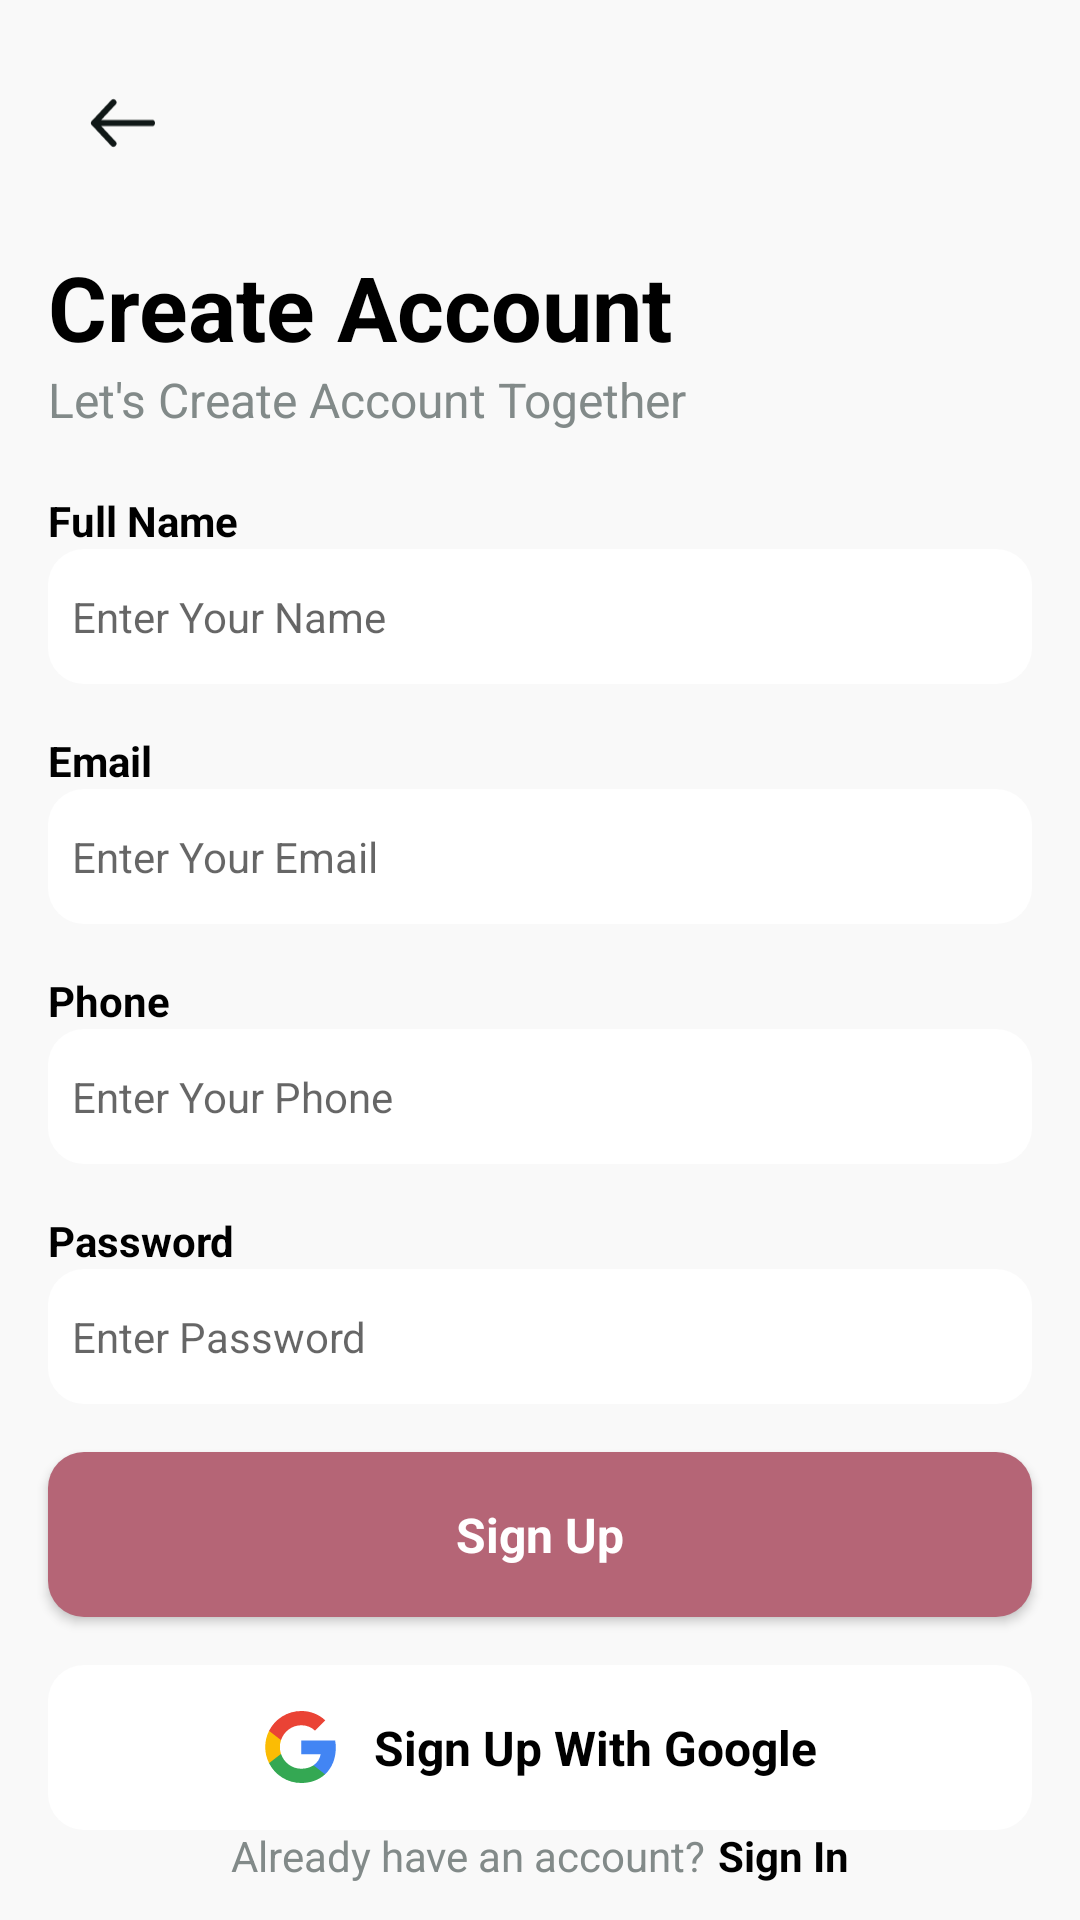

Screen size 1080x1920. Icon name, then its box in pixels as box(x1, y1, x2, y2):
back: box(91, 99, 155, 147)
